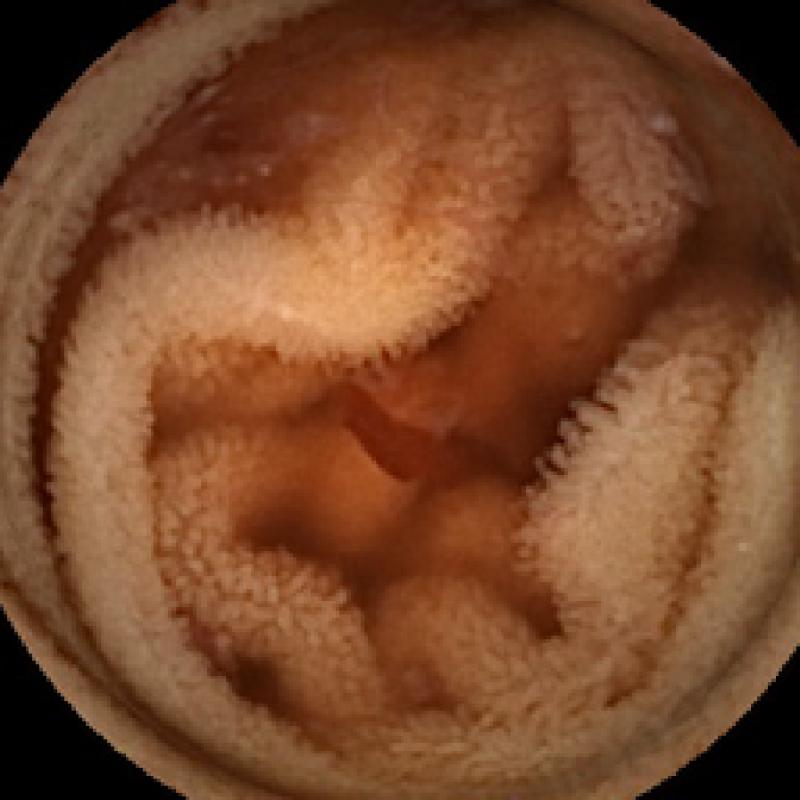bleeding: (332, 382, 522, 489)
